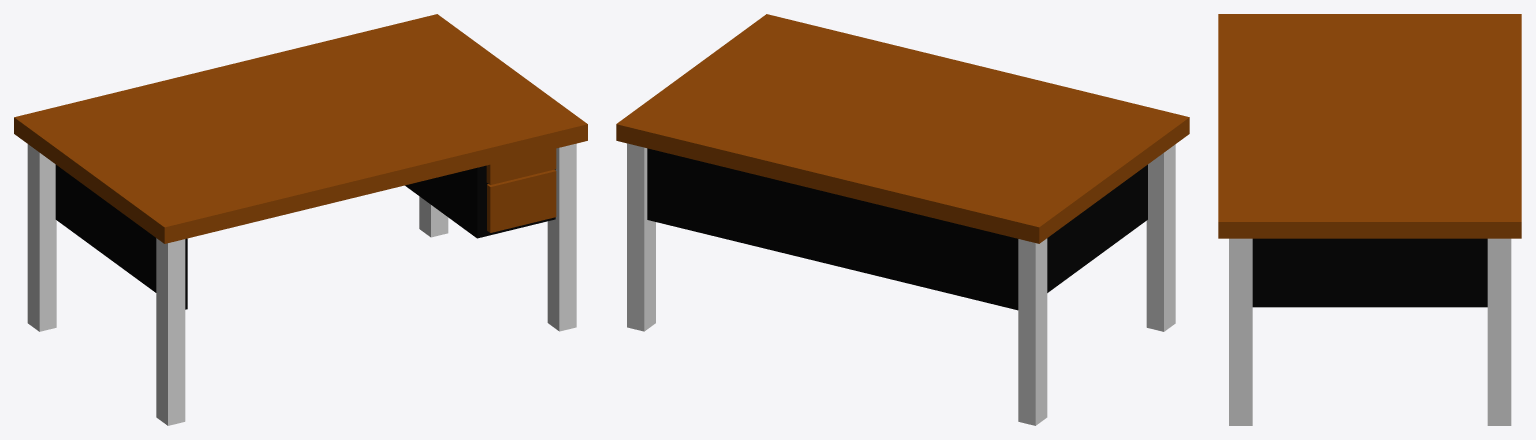
The model's file is meja.gltf.
3 views of the same model, side by side, from view 1: azimuth 30°, elevation 25°; view 2: azimuth 150°, elevation 25°; view 3: azimuth 270°, elevation 25° (orthographic).
Parts seen in each view (by area): view 1: Cube, Cube.002, Cube.003, Cube.005, Cube.004; view 2: Cube, Cube.003, Cube.002; view 3: Cube, Cube.003, Cube.002.
Part boxes in pixels (bbox=[...]): Cube: bbox=[14, 14, 587, 243]; Cube.002: bbox=[27, 143, 576, 425]; Cube.003: bbox=[55, 164, 555, 309]; Cube.005: bbox=[487, 169, 556, 232]; Cube.004: bbox=[486, 148, 556, 184]; Cube: bbox=[616, 14, 1189, 243]; Cube.003: bbox=[647, 148, 1147, 310]; Cube.002: bbox=[627, 143, 1175, 425]; Cube: bbox=[1218, 14, 1521, 238]; Cube.003: bbox=[1252, 238, 1487, 307]; Cube.002: bbox=[1229, 238, 1511, 425].
Size of the model in its own units: 2.41 by 1.12 by 1.48.
